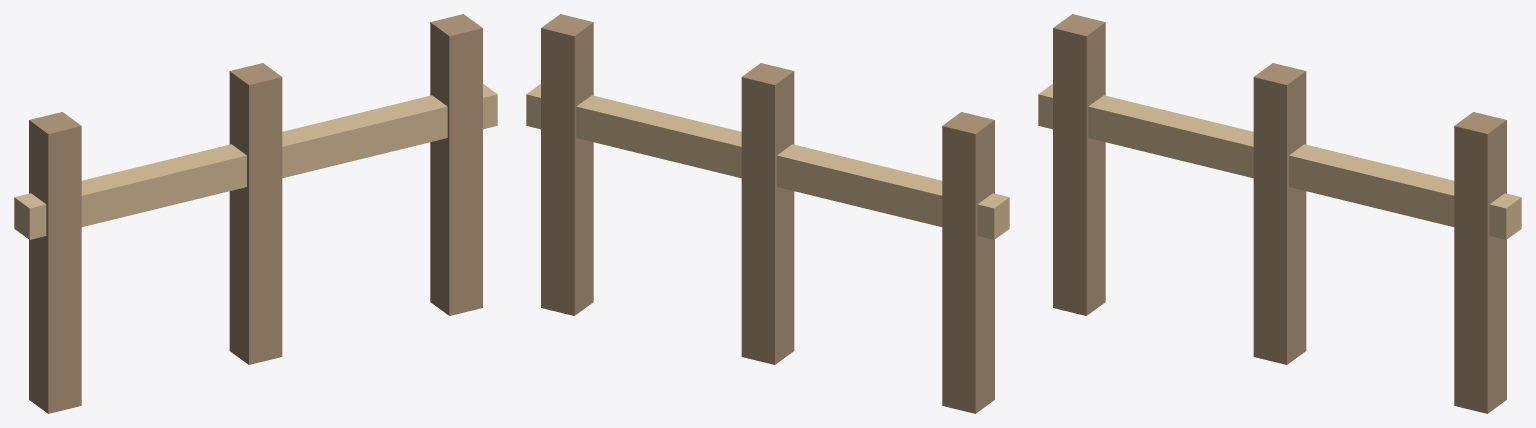
Rendered from wooden_fence.glb.
The picture shows the model from 3 angles, left to right: view 1: azimuth 30°, elevation 25°; view 2: azimuth 150°, elevation 25°; view 3: azimuth 330°, elevation 25°; orthographic projection.
Parts seen in each view (by area): view 1: wooden_fence_MAT_wood, wooden_fence_MAT_edge; view 2: wooden_fence_MAT_wood, wooden_fence_MAT_edge; view 3: wooden_fence_MAT_wood, wooden_fence_MAT_edge.
Boxes of the visible parts, x1,y1,x2,y2 form: wooden_fence_MAT_wood: (29,14,482,413); wooden_fence_MAT_edge: (14,84,497,239); wooden_fence_MAT_wood: (541,14,994,413); wooden_fence_MAT_edge: (526,84,1009,239); wooden_fence_MAT_wood: (1053,14,1506,413); wooden_fence_MAT_edge: (1038,84,1521,239).
Size of the model in its own units: 1.4 by 0.8 by 0.1.
